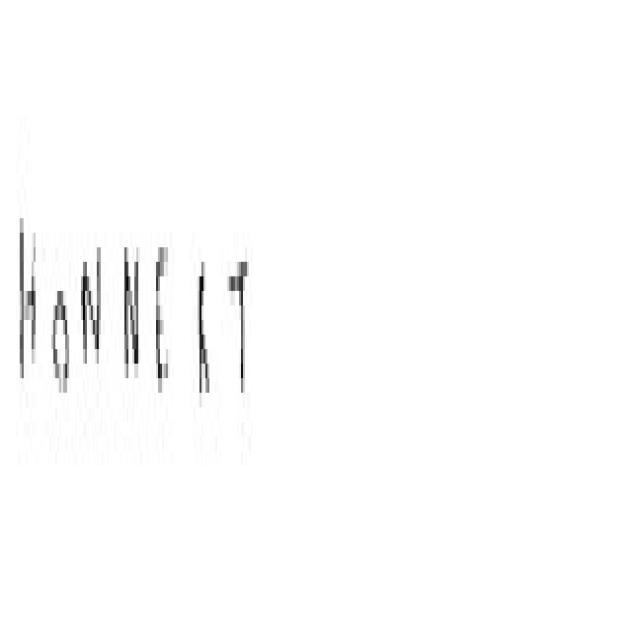E: (151, 207, 181, 525)
H: (12, 170, 41, 483)
N: (115, 207, 146, 513), (82, 221, 110, 446)
O: (47, 184, 80, 539)
R: (187, 193, 221, 562)
T: (223, 165, 270, 525)
